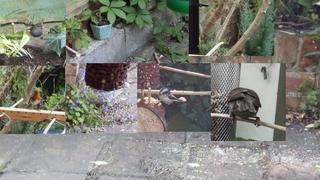long tailed tit: (156, 87, 187, 109)
robin: (27, 90, 41, 111)
sparrow: (26, 24, 42, 39)
starling: (228, 87, 262, 128)
